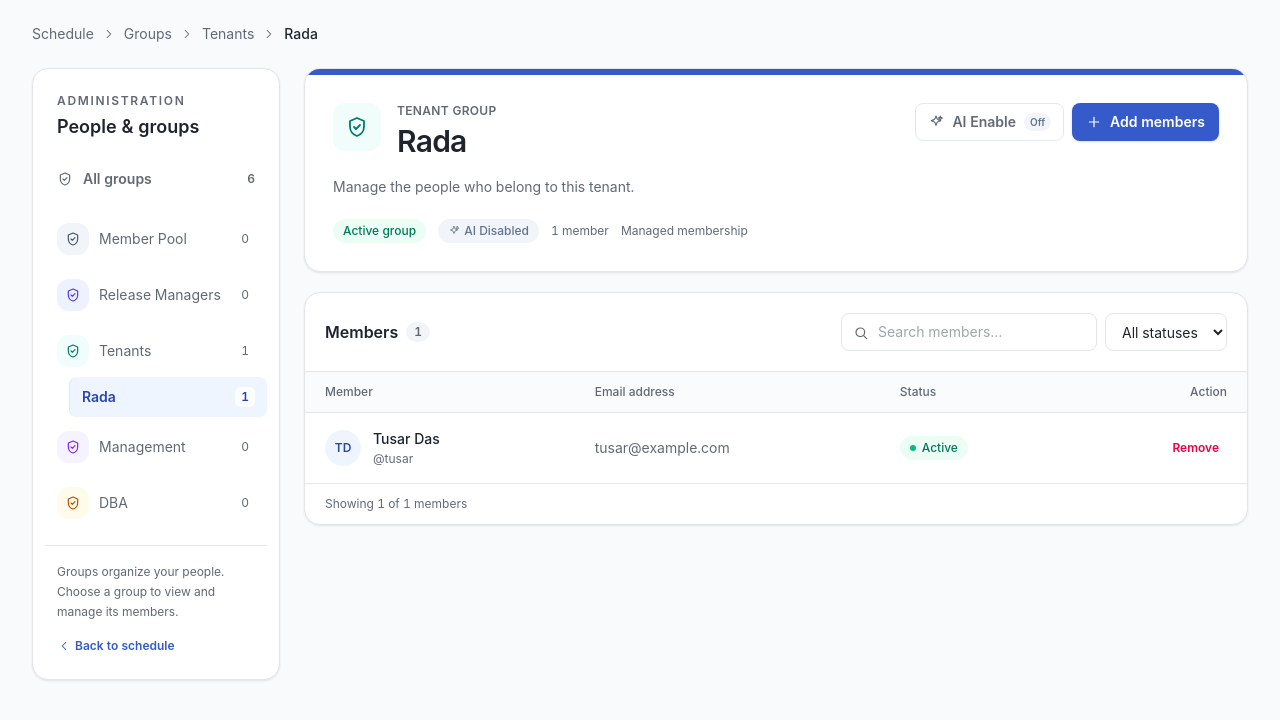
Test case: requires confirmation before removing a member
Click the button with aria-label "Remove Tusar Das": (1196,448) [1164, 436, 1227, 460]
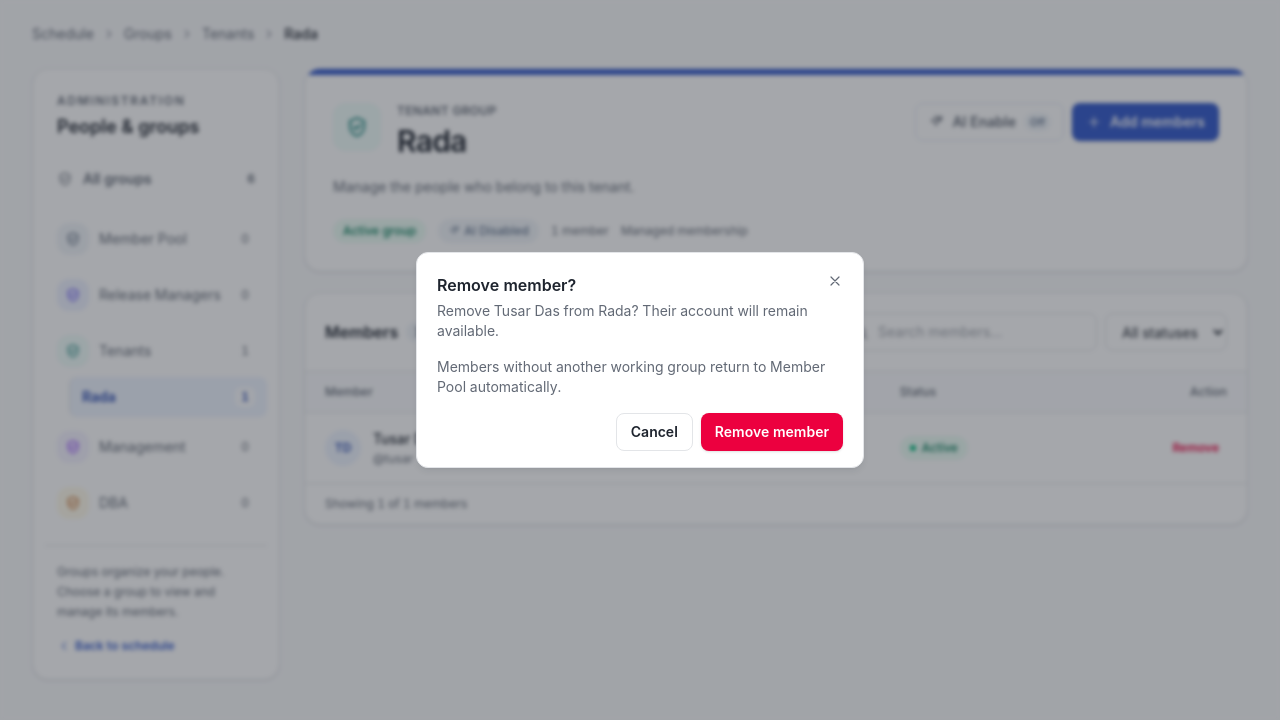
Click the button "Remove member": (772,432) [701, 413, 843, 451]
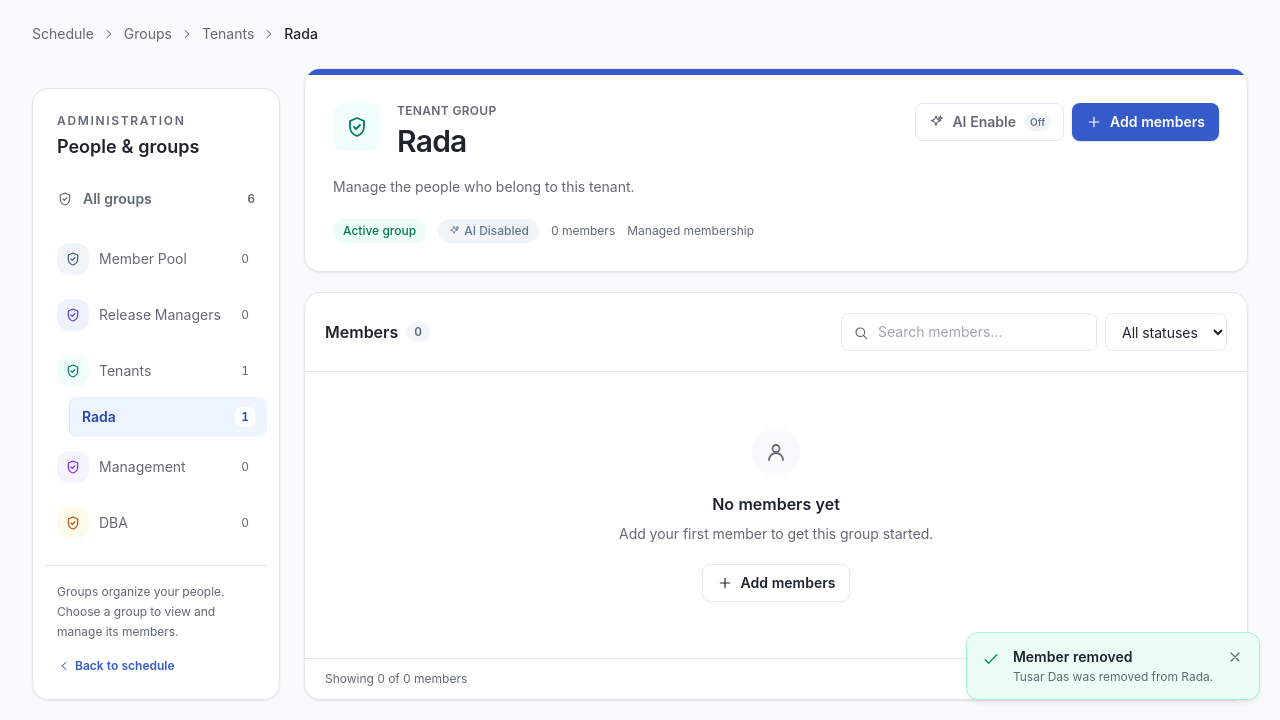
Expected: the heading "No members yet" is shown, [712, 494, 840, 514]
